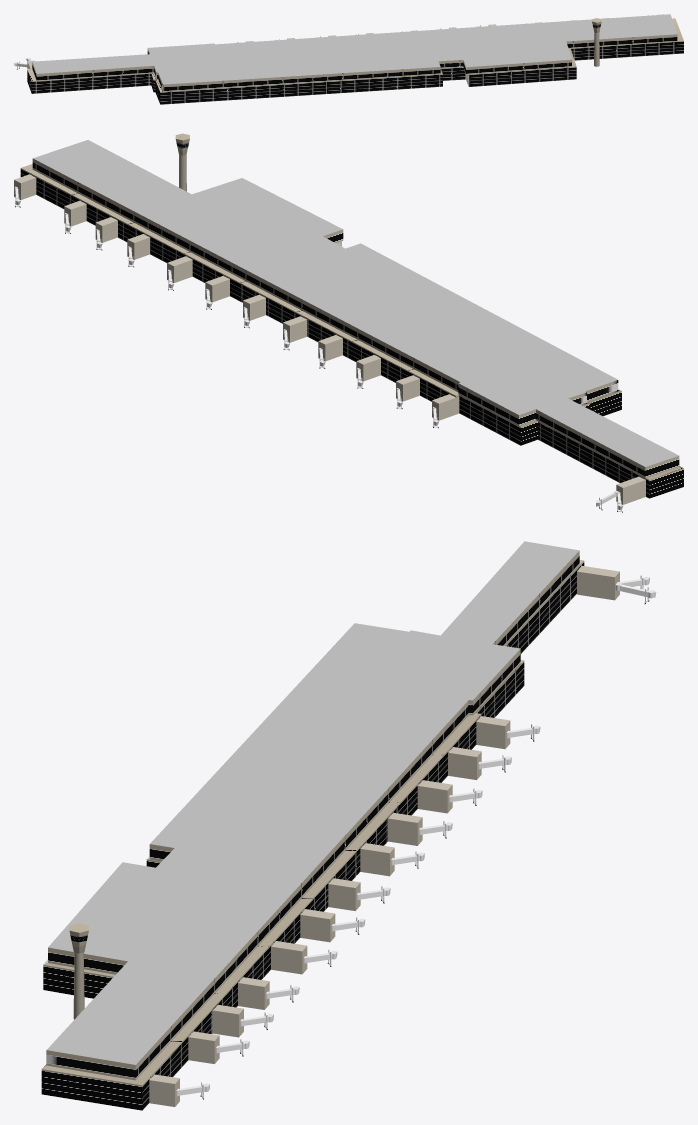
The model's file is GranCanaria.glb.
The picture shows the model from 3 angles, top to bottom: view 1: azimuth 30°, elevation 25°; view 2: azimuth 150°, elevation 25°; view 3: azimuth 270°, elevation 25°; orthographic projection. The views are drawn at different scales.
Visible parts, largest first — view 1: Buffer Object 26, Buffer Object 19, Buffer Object 21, Buffer Object 27; view 2: Buffer Object 26, Buffer Object 21, Buffer Object 19, Buffer Object 20; view 3: Buffer Object 26, Buffer Object 21, Buffer Object 20 (×13), Buffer Object 19.
Boxes of the visible parts, x1,y1,x2,y2 form: Buffer Object 26: (32, 14, 677, 84); Buffer Object 19: (27, 41, 683, 104); Buffer Object 21: (27, 18, 683, 91); Buffer Object 27: (594, 32, 599, 66); Buffer Object 26: (33, 140, 678, 466); Buffer Object 21: (21, 158, 683, 479); Buffer Object 19: (20, 168, 683, 498); Buffer Object 20: (616, 476, 645, 504); Buffer Object 26: (47, 541, 579, 1064); Buffer Object 21: (42, 551, 583, 1085); Buffer Object 20 (×13): (149, 566, 619, 1106); Buffer Object 19: (41, 561, 584, 1110).
Bounding box in the file's own units: 786 × 62.08 × 382.
72 materials, 1 textured.
